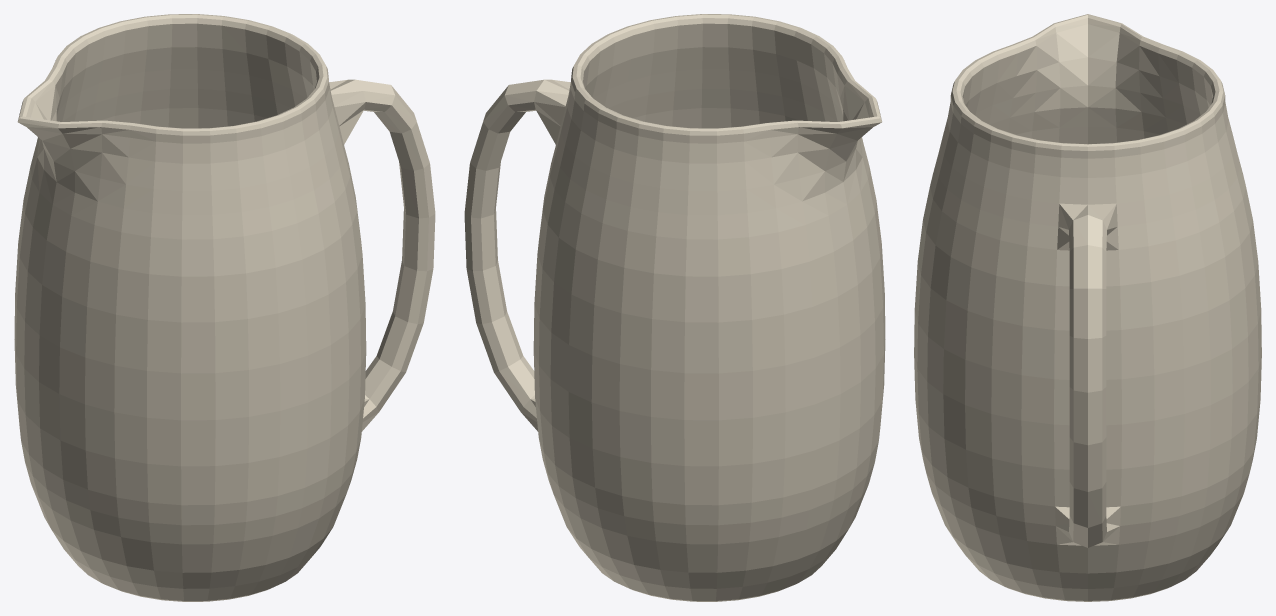
The picture shows the model from 3 angles, left to right: view 1: azimuth 30°, elevation 25°; view 2: azimuth 150°, elevation 25°; view 3: azimuth 270°, elevation 25°; orthographic projection. The views are drawn at different scales.
Parts seen in each view (by area): view 1: Open_pitcher_integral_shell_and_loop_handle; view 2: Open_pitcher_integral_shell_and_loop_handle; view 3: Open_pitcher_integral_shell_and_loop_handle.
Boxes of the visible parts, x1,y1,x2,y2 form: Open_pitcher_integral_shell_and_loop_handle: [14, 14, 435, 601]; Open_pitcher_integral_shell_and_loop_handle: [464, 14, 885, 601]; Open_pitcher_integral_shell_and_loop_handle: [914, 14, 1261, 601].
Bounding box in the file's own units: 0.14 × 0.155 × 0.105.
